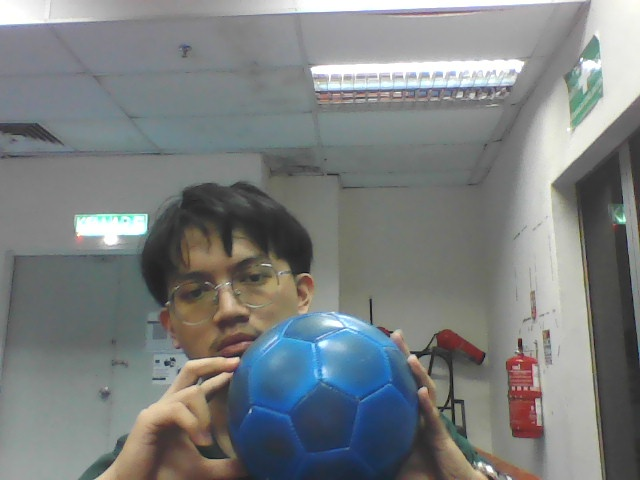Blue: (227, 313, 419, 480)
